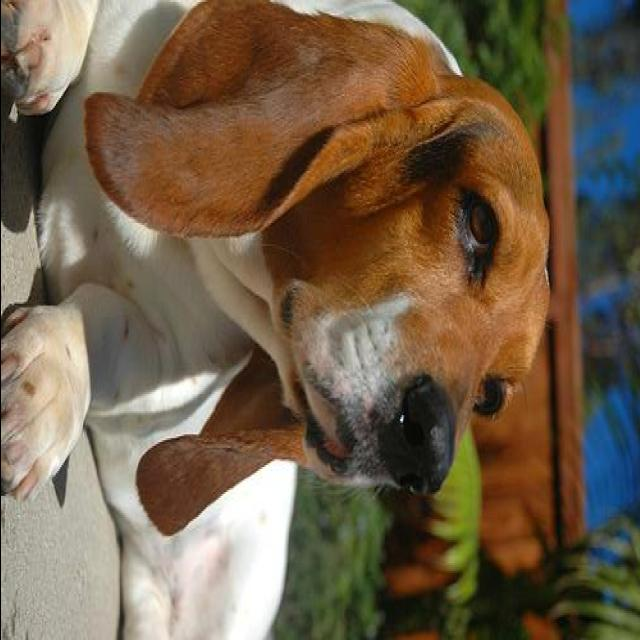basset: (3, 4, 549, 638)
